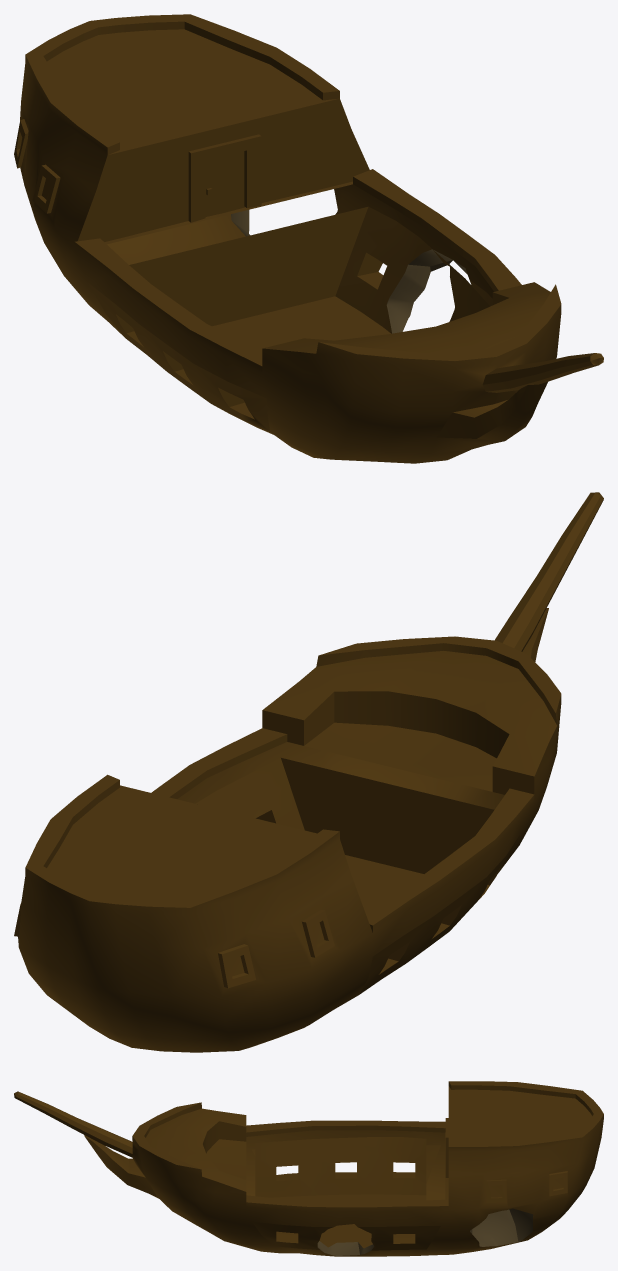
Rendered from RigthCenterBrokenShip.fbx.
The picture shows the model from 3 angles, top to bottom: view 1: azimuth 30°, elevation 25°; view 2: azimuth 150°, elevation 25°; view 3: azimuth 270°, elevation 25°; orthographic projection. The views are drawn at different scales.
Visible parts, largest first — view 1: MainShipBody002; view 2: MainShipBody002; view 3: MainShipBody002.
Boxes of the visible parts, x1=… form: MainShipBody002: x1=14, y1=14, x2=603, y2=463; MainShipBody002: x1=14, y1=492, x2=603, y2=1052; MainShipBody002: x1=14, y1=1081, x2=603, y2=1256.
Size of the model in its own units: 507 by 1461 by 381.
